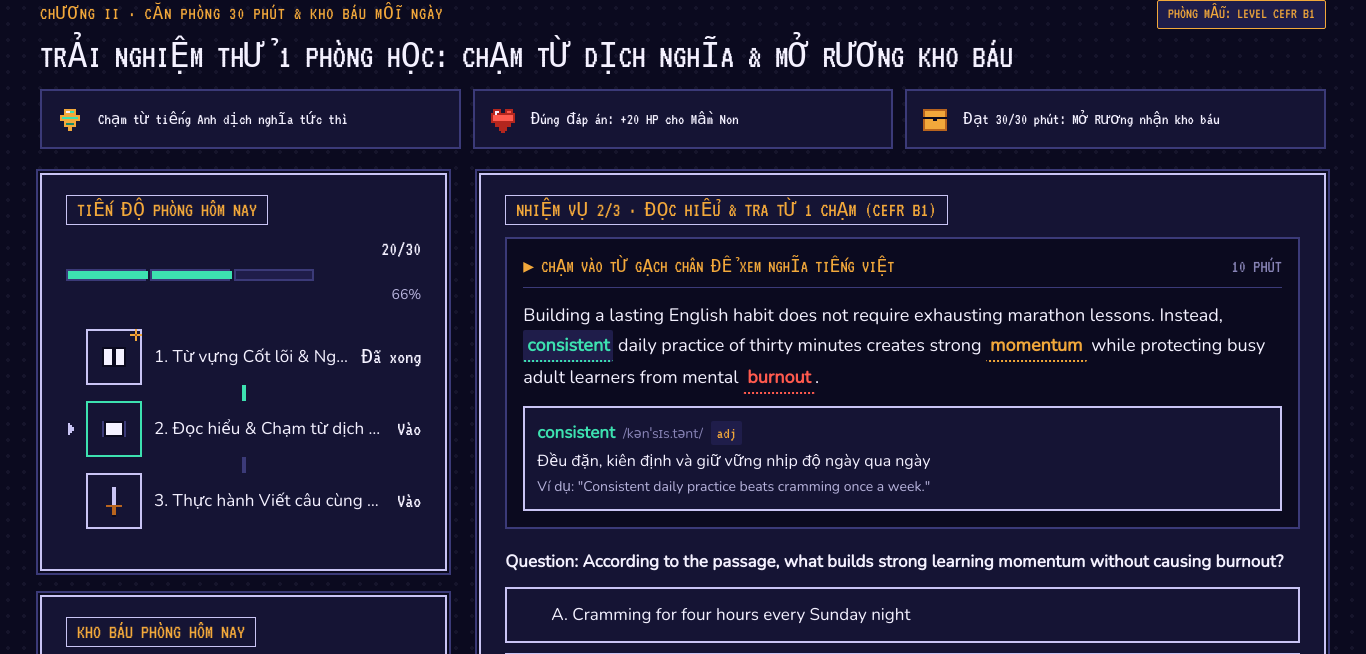
Test case: ChapterTwoQuestRoom › switches Vietnamese vocabulary gloss when tapping underlined English words
Check: the element that starts with "consistent" is shown, box [537, 420, 615, 444]
Click the button "momentum".
click(1036, 346)  # box [986, 330, 1086, 362]
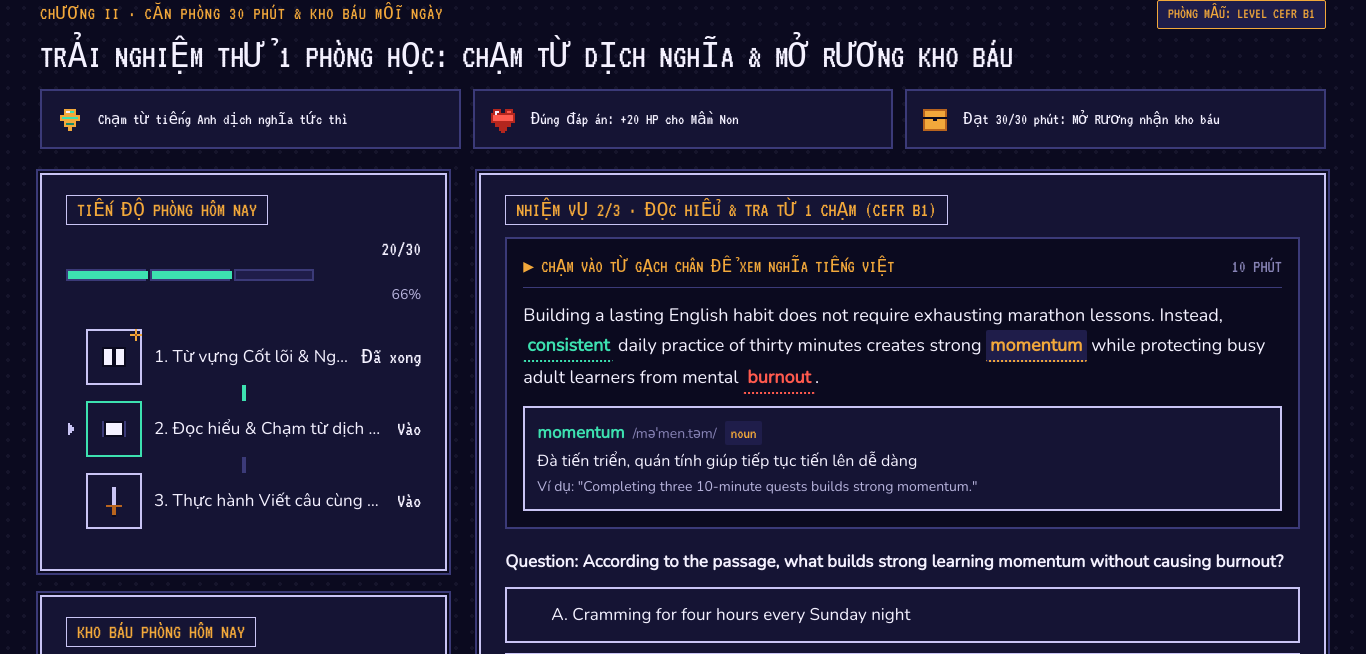
Check: the element that starts with "momentum" is shown, box [537, 420, 625, 444]
Check: the element that starts with "momentum" shows "Đà tiến triển", box [537, 450, 917, 472]
